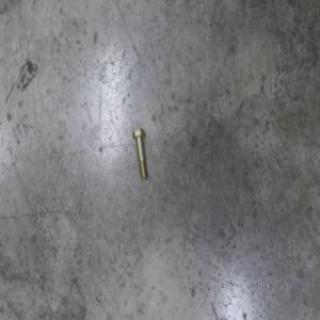Bolttrack_idkeyframe: (131, 125, 146, 178)
